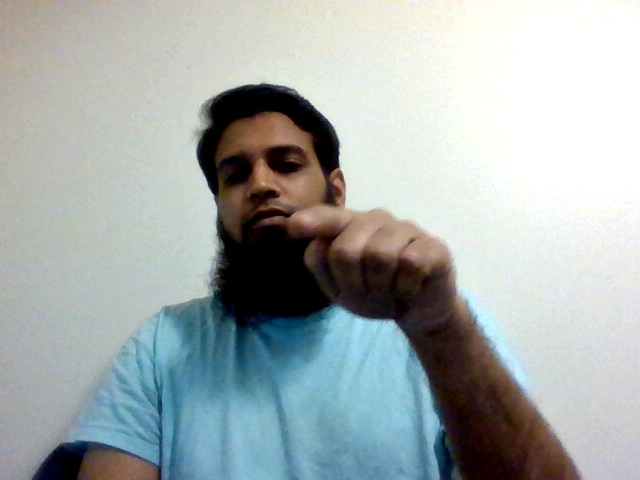you: (282, 202, 469, 330)
